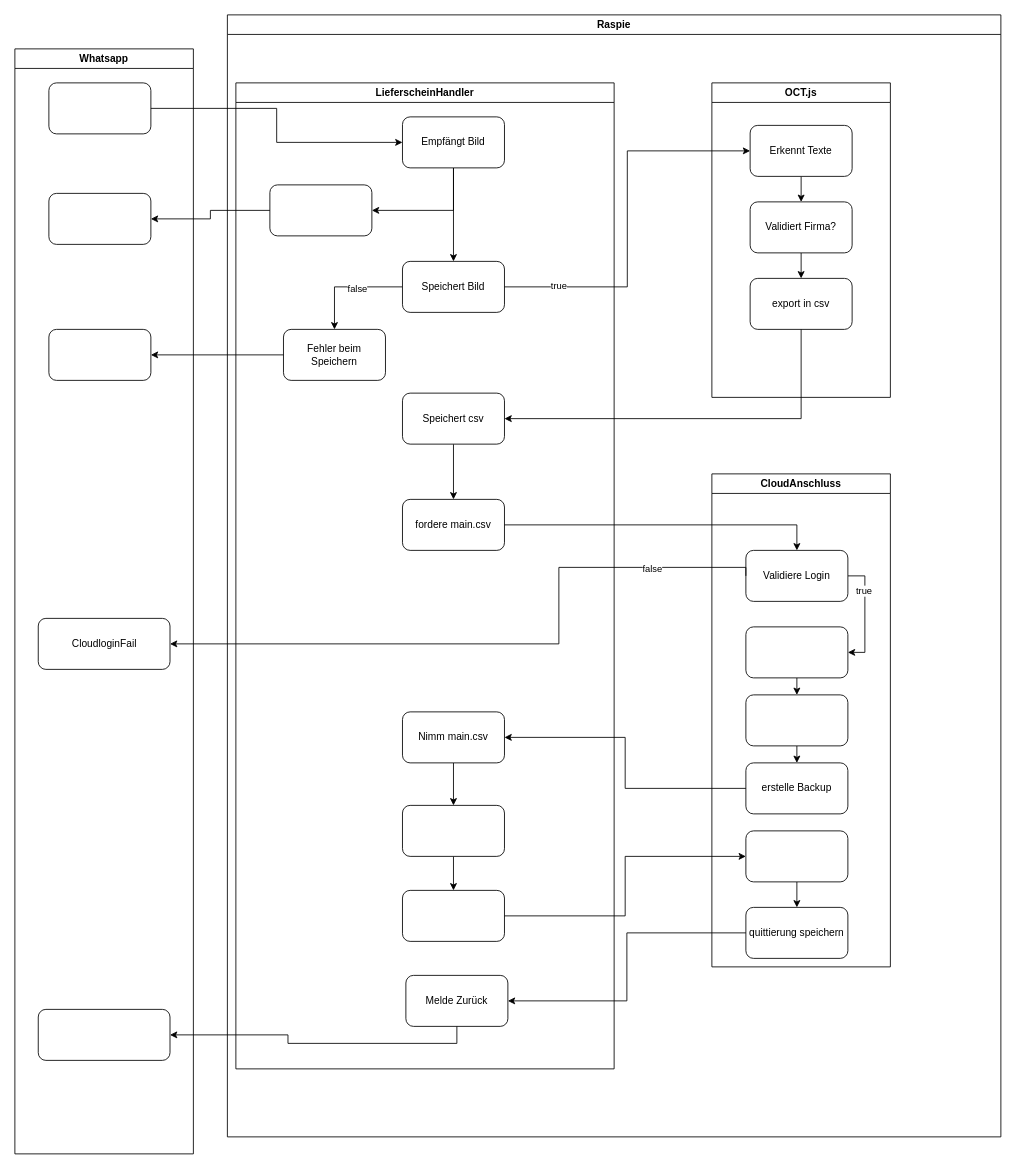
Some shapes in this 1016 by 1169 pixel diagram are drawn without their labels. The shapes that lost their labels are listed below. From the top down, each one's centre as x and y in pixels, then its label:
At point (99, 108): "Sendet Bild".
At point (99, 218): "Empfangsbestätigung".
At point (320, 210): "Quittiert Empfang".
At point (99, 354): "Fehlermeldung".
At point (796, 652): "hole main.csv".
At point (796, 720): "prüfe max Länge".
At point (453, 830): "Entry anfügen".
At point (796, 856): "upload main.csv".
At point (453, 915): "Speichere main.csv".
At point (103, 1034): "Verarbeitungsbestätigung".
